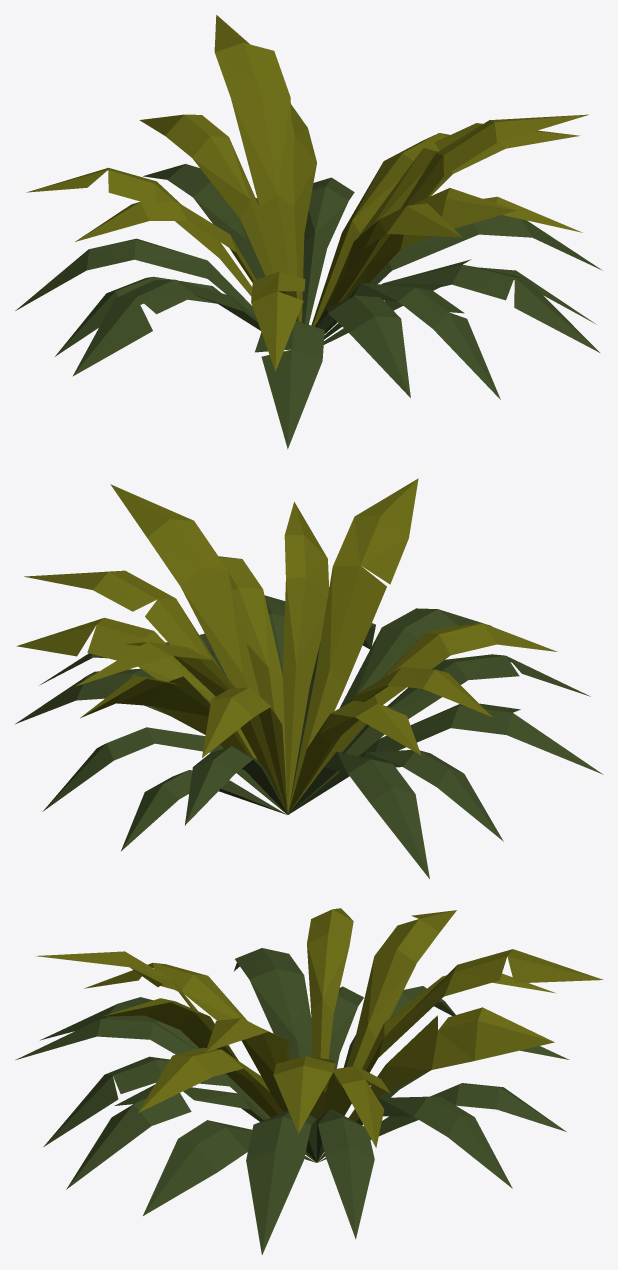
Rendered from Plant_1.fbx.
The picture shows the model from 3 angles, top to bottom: view 1: azimuth 30°, elevation 25°; view 2: azimuth 150°, elevation 25°; view 3: azimuth 270°, elevation 25°; orthographic projection. The views are drawn at different scales.
Parts seen in each view (by area): view 1: Plant_1; view 2: Plant_1; view 3: Plant_1.
Boxes of the visible parts, x1=… form: Plant_1: x1=15, y1=15, x2=602, y2=449; Plant_1: x1=15, y1=478, x2=603, y2=878; Plant_1: x1=15, y1=908, x2=603, y2=1254.
Size of the model in its own units: 1.47 by 0.5986 by 1.42.
